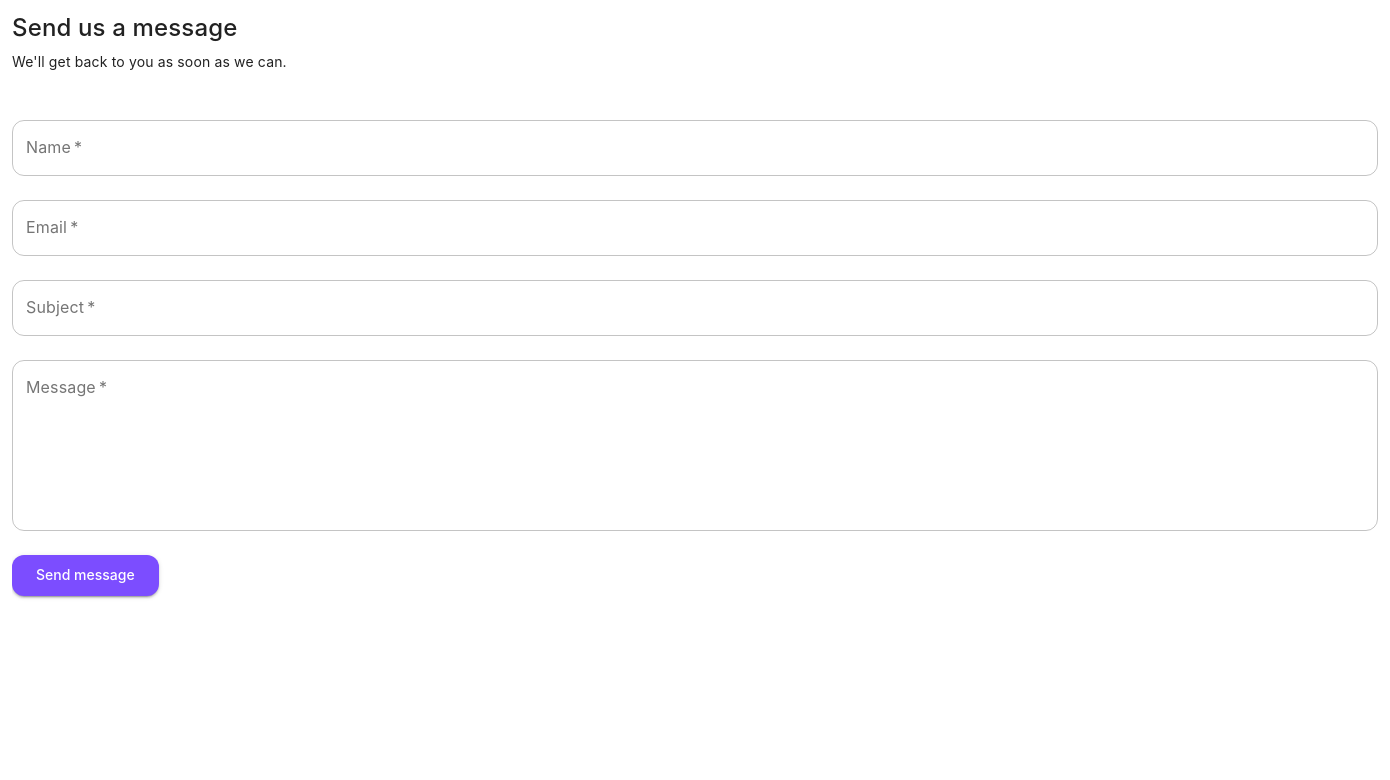
Test: ContactForm › validates email format
This screenshot has width=1390, height=780.
Type "Person" into the field labelled "Name *".
click(695, 148); type("Person")  # box [12,120,1378,176]
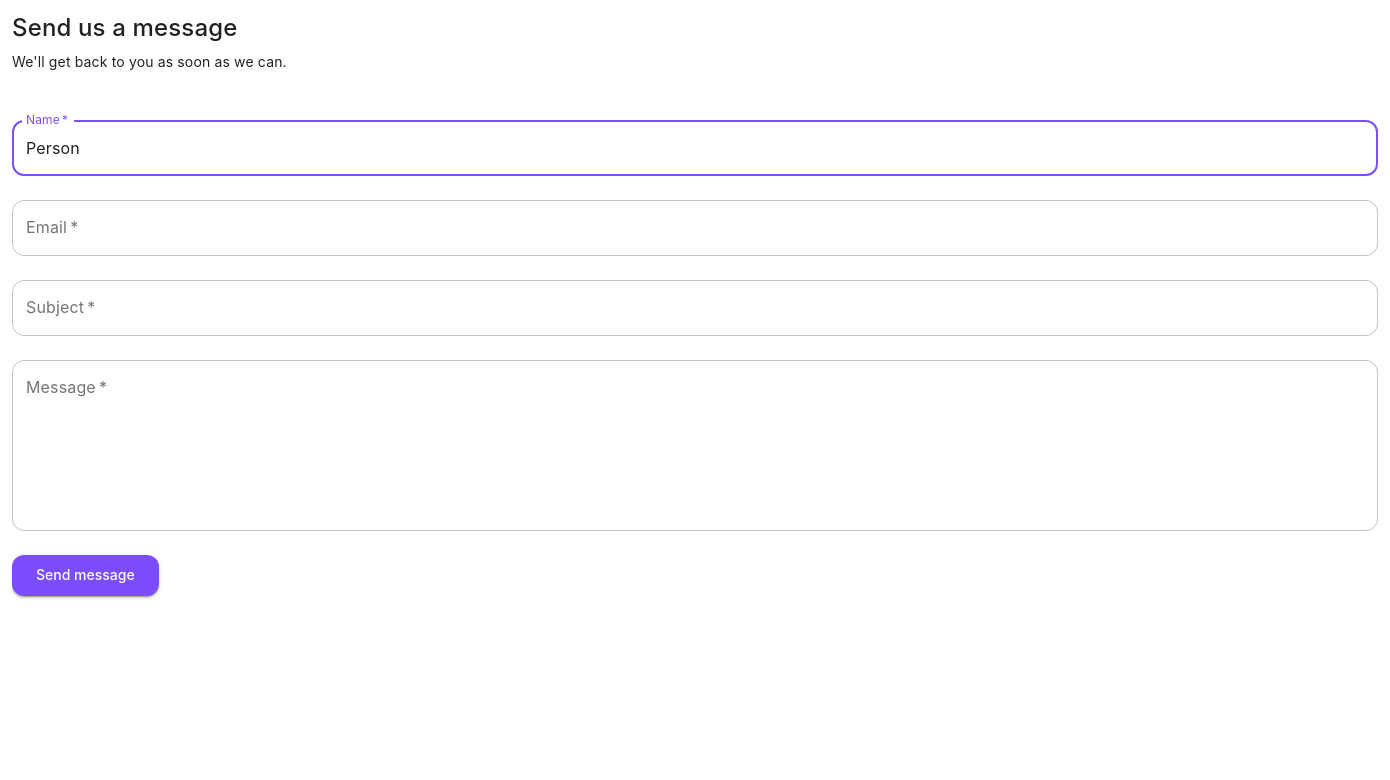
Type "invalid-email" into the field labelled "Email *".
click(695, 228); type("invalid-email")  # box [12,200,1378,256]
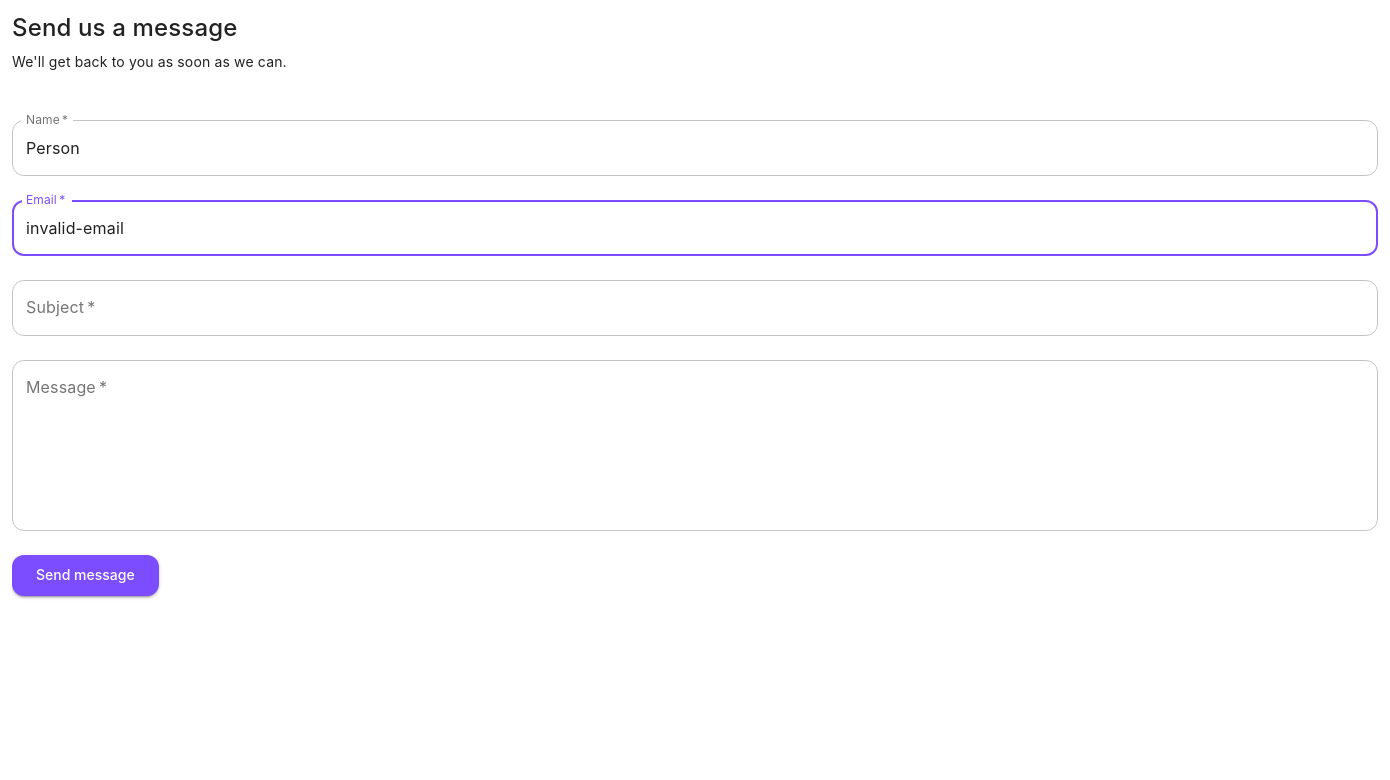
Type "Question" into the field labelled "Subject *".
click(695, 308); type("Question")  # box [12,280,1378,336]
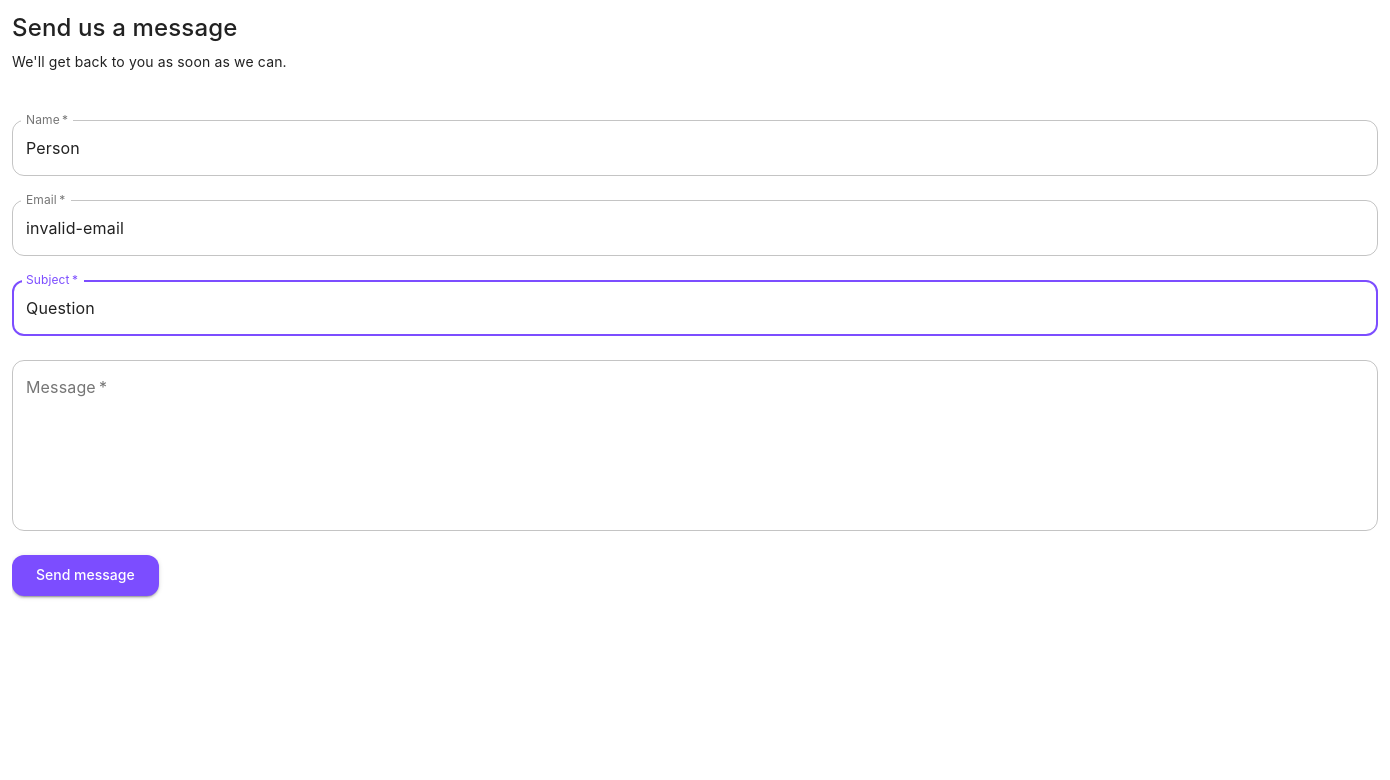
Type "Hello" into the text box labelled "Message *".
click(695, 446); type("Hello")  # box [26,377,1364,515]
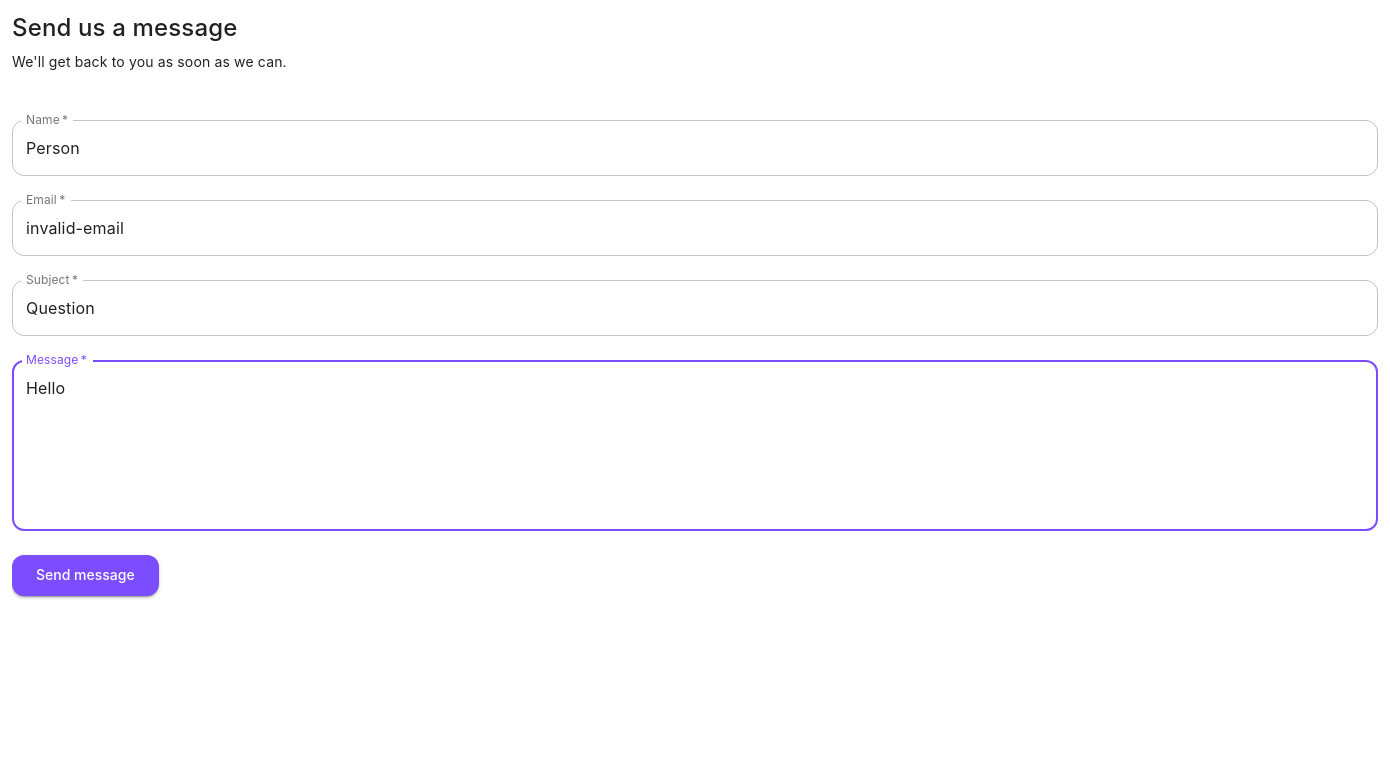
Click the button "Send message".
click(85, 576)  # box [12,555,159,596]
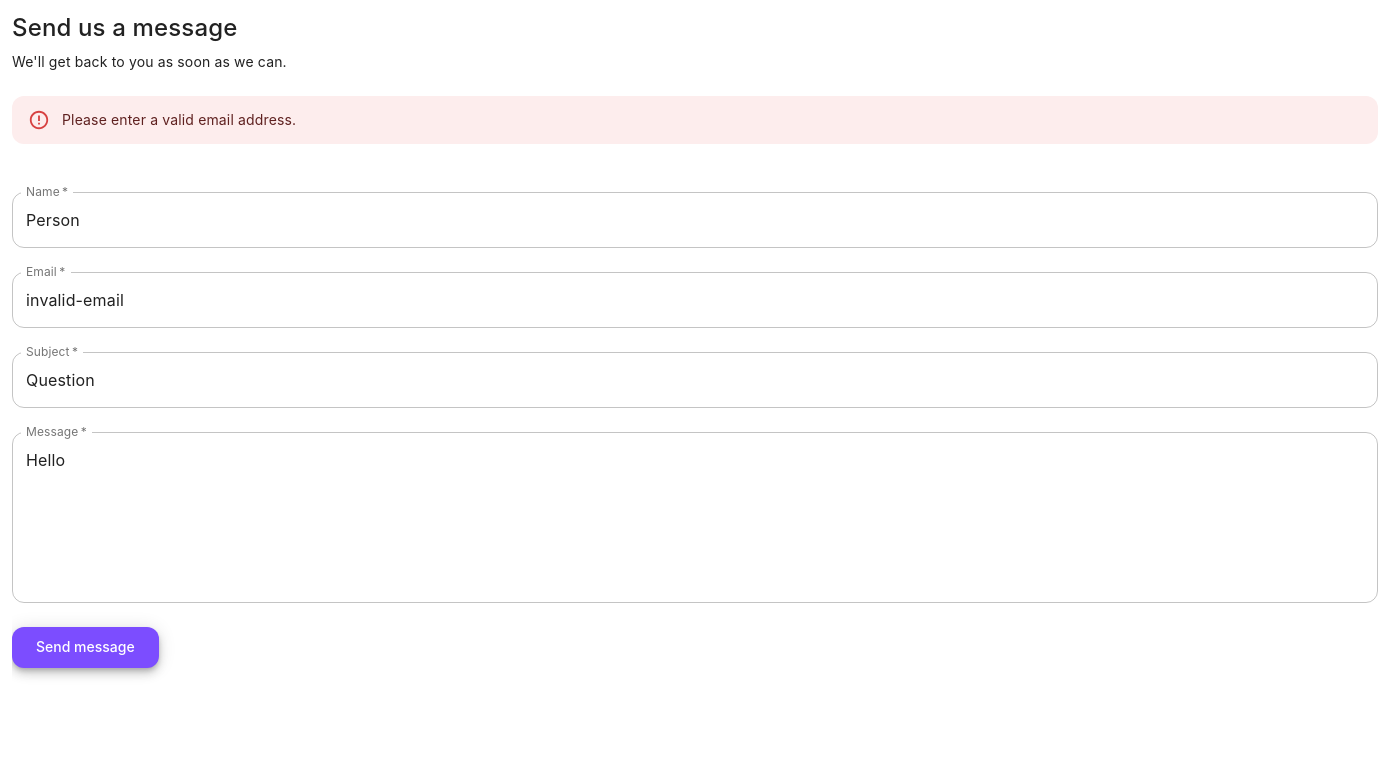
Expected: the text "Please enter a valid email address." is shown, [62,111,296,128]
